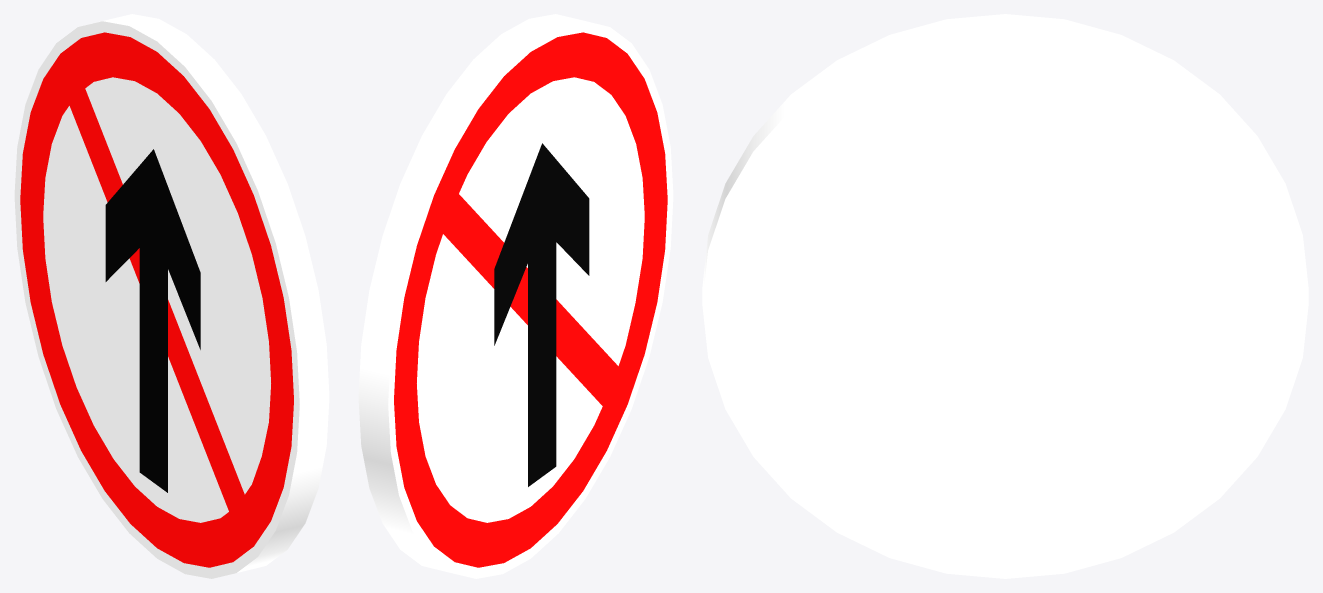
Rendered from No_Straight.glb.
3 views of the same model, side by side, from view 1: azimuth 30°, elevation 25°; view 2: azimuth 150°, elevation 25°; view 3: azimuth 270°, elevation 25° (orthographic). The views are drawn at different scales.
Visible parts, largest first — view 1: No_Straight; view 2: No_Straight; view 3: No_Straight.
Boxes of the visible parts, left/top/right/bottom form: No_Straight: left=14, top=14, right=329, bottom=578; No_Straight: left=358, top=14, right=673, bottom=578; No_Straight: left=702, top=14, right=1308, bottom=578.
Size of the model in its own units: 0.075 by 1 by 1.
